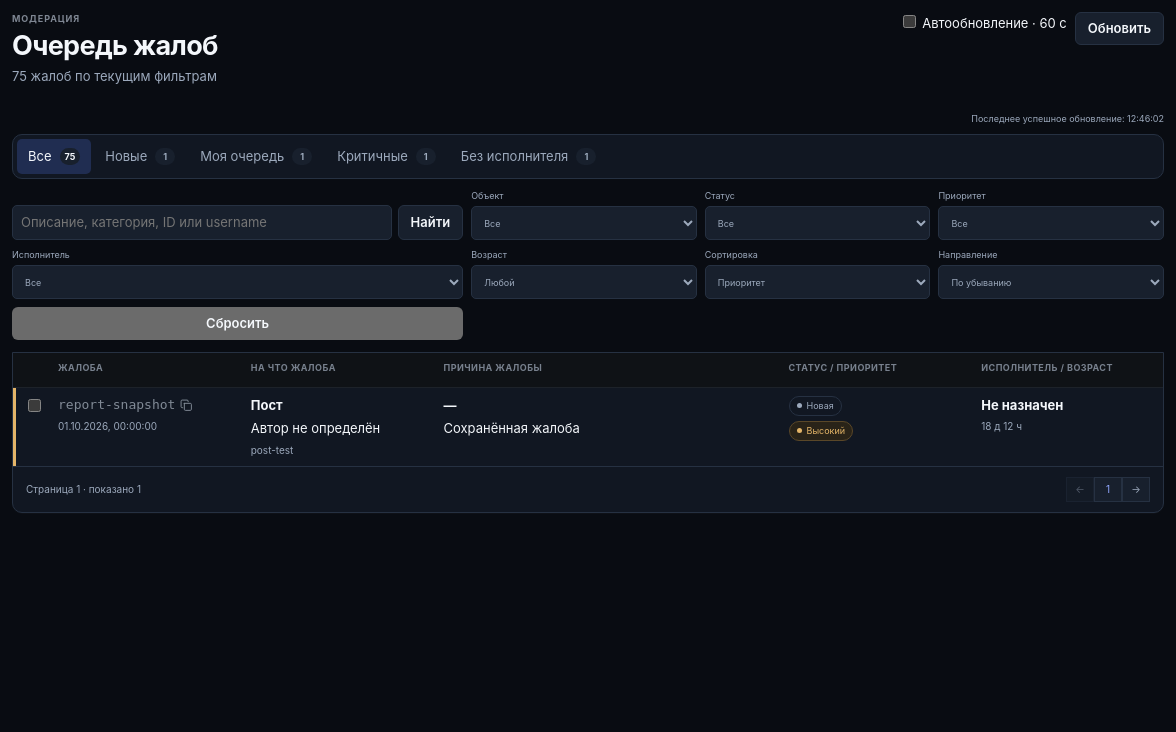
Test: reports queue operational controls › clears old rows on filter change and ignores a late cancelled refresh
Check: the text "Сохранённая жалоба" is shown, box [444,420,580,436]
Click the button "Обновить". click: (1119, 28)
box: [1075,12,1164,45]
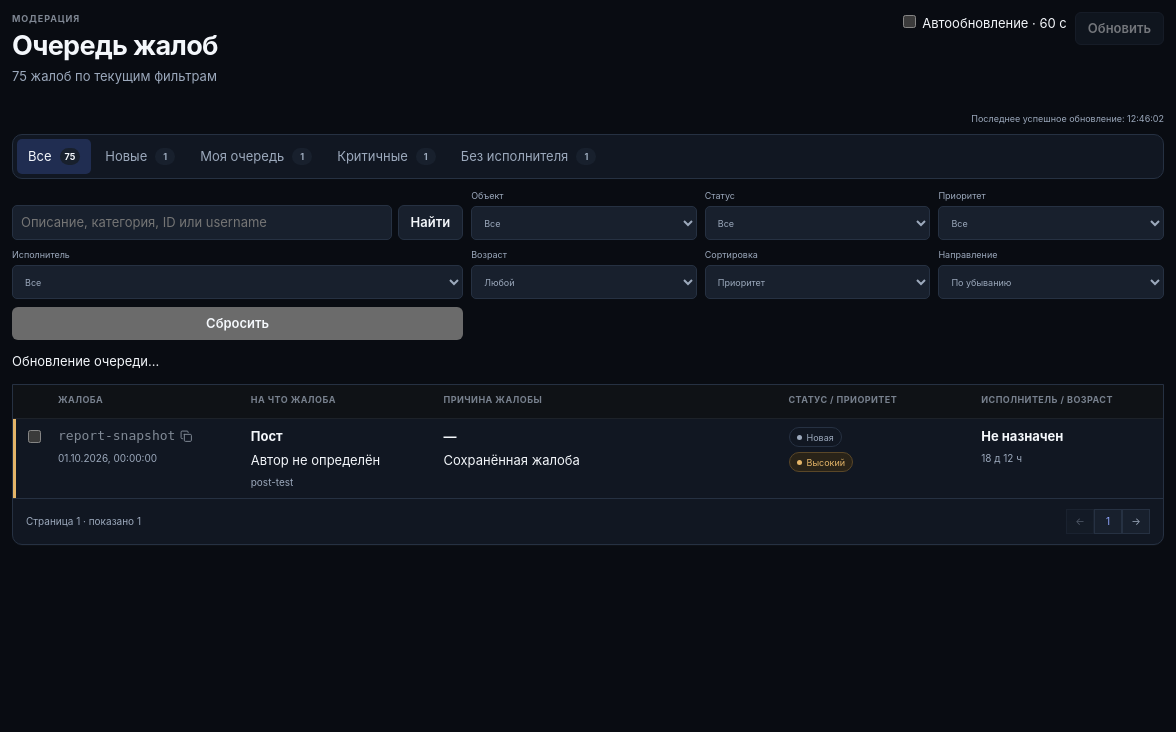
Select "Комментарий" in the dropdown named "Тип объекта". click: (584, 223)
box: [471,206,697,240]
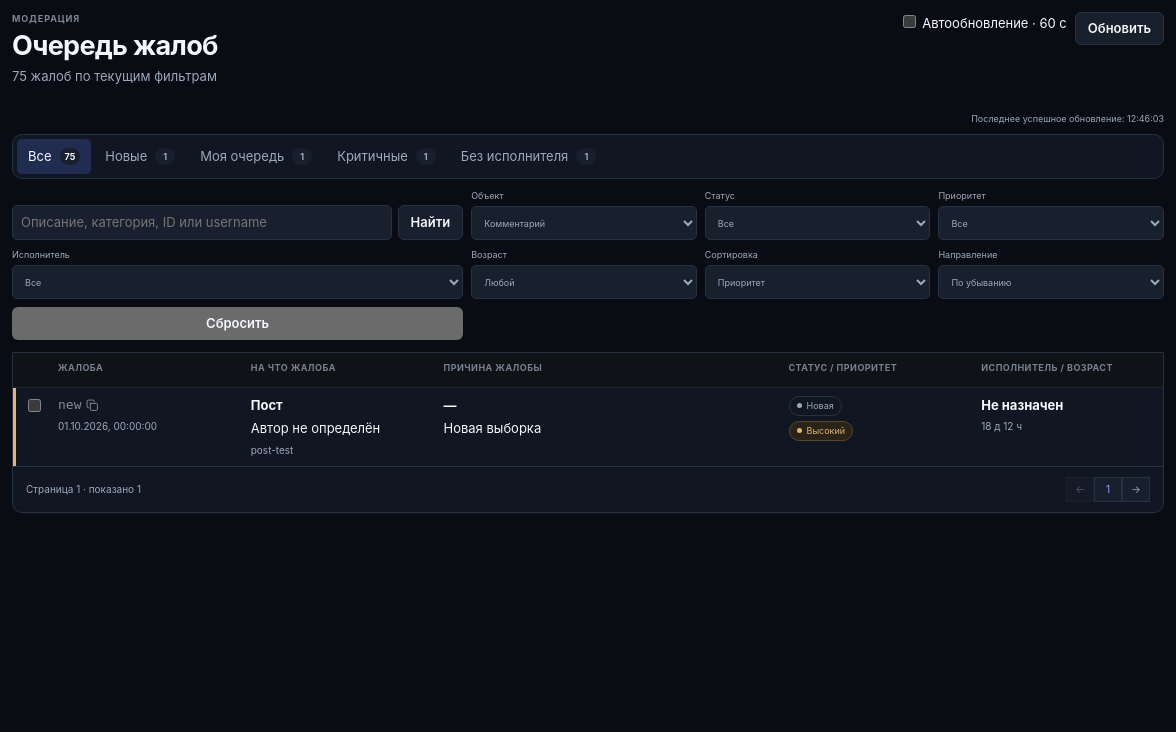
Check: the text "Новая выборка" is shown, box [444,420,541,436]
Check: the text "Сохранённая жалоба" is gone
